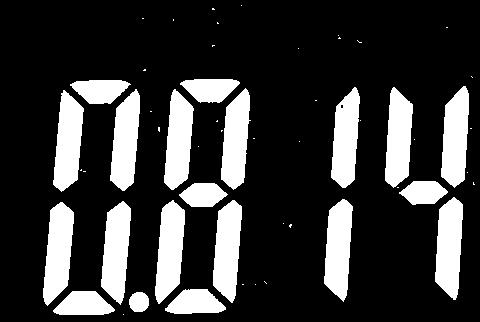0: (37, 75, 143, 317)
1: (322, 86, 365, 303)
4: (378, 83, 471, 300)
8: (156, 75, 253, 313)
dot: (129, 290, 150, 314)
